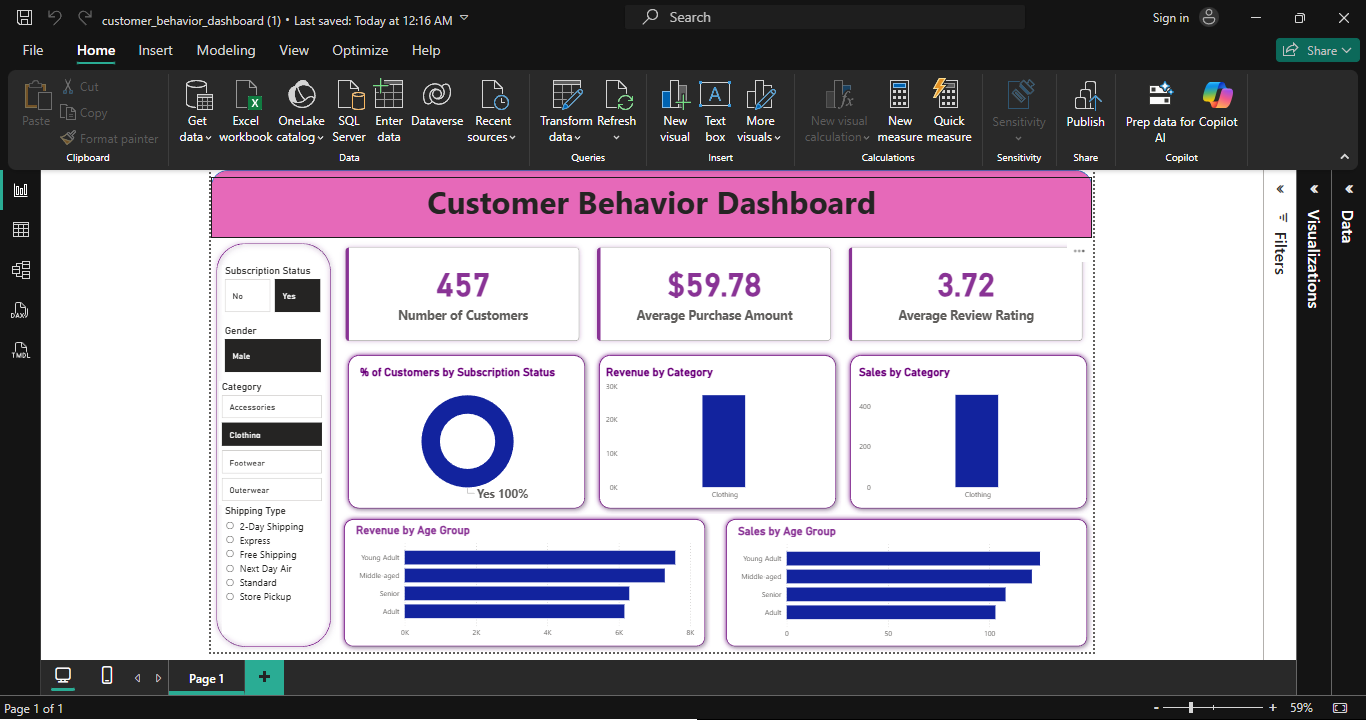

The dashboard page shown, as its layout file describes it:
{"tool":"powerbi","page":{"name":"Page 1","canvas":[1500,820],"ordinal":0},"visuals":[{"type":"cardVisual","fields":{"Data":["public customer.Number of Customers","public customer.Average Purchase Amount","public customer.Average Review Rating"]},"box":[212.9,115.3,1286.5,191.6],"z":2000},{"type":"shape","box":[218.3,585.6,631.7,234.2],"z":2500,"group":"g1"},{"type":"shape","box":[0,0,1499.4,115.3],"z":3000},{"type":"textbox","box":[0,12.4,1499.4,102.9],"z":4000},{"type":"shape","box":[225.4,307,420.5,278.6],"z":5000},{"type":"donutChart","title":"% of Customers by Subscription Status","fields":{"Category":["public customer.subscription_status"],"Y":["CountNonNull(public customer.customer_id)"]},"box":[248.4,331.8,376.2,237.8],"z":6000},{"type":"shape","box":[1078.9,307,420.5,278.6],"z":7000},{"type":"shape","box":[652.1,307,420.5,278.6],"z":8000},{"type":"clusteredColumnChart","title":"Revenue by Category","fields":{"Y":["Sum(public customer.purchase_amount)"],"Category":["public customer.category"]},"box":[667.2,331.8,385.1,237.8],"z":9000},{"type":"clusteredColumnChart","title":"Sales by Category","fields":{"Y":["CountNonNull(public customer.customer_id)"],"Category":["public customer.category"]},"box":[1096.6,331.8,385.1,237.8],"z":10000},{"type":"shape","box":[0,115.3,212.9,704.5],"z":11000},{"type":"advancedSlicerVisual","fields":{"Values":["public customer.subscription_status"]},"box":[19.5,161.5,173.9,85.2],"z":12000},{"type":"advancedSlicerVisual","fields":{"Values":["public customer.gender"]},"box":[19.5,264.4,173.9,85.2],"z":13000},{"type":"advancedSlicerVisual","fields":{"Values":["public customer.category"]},"box":[13.6,359,180.3,211],"z":14000},{"type":"listSlicer","fields":{"Values":["public customer.shipping_type"]},"box":[19.5,569.6,168.6,220],"z":15000},{"type":"shape","box":[867.7,585.6,631.7,234.2],"z":16000},{"type":"clusteredBarChart","title":"Sales by Age Group","fields":{"Y":["CountNonNull(public customer.customer_id)"],"Category":["public customer.age_group"]},"box":[890.8,601.5,585.6,204.1],"z":17000},{"type":"clusteredBarChart","title":"Revenue by Age Group","fields":{"Y":["Sum(public customer.purchase_amount)"],"Category":["public customer.age_group"]},"box":[241.4,601.6,585.6,204.1],"z":17500,"group":"g1"},{"type":"group","id":"g1","title":"Group 1","box":[218.3,585.6,631.7,234.2],"z":17501}]}

Visuals, with their boxes on the page's 1500x820 design canvas (x1, y1, x2, y2). These are canvas units, not pixel positions in the 1366x720 screenshot, which may show the page scaled, cropped or inside an application window:
cardVisual - public customer.Number of Customers x public customer.Average Purchase Amount: <box>213,115,1499,307</box>
shape: <box>218,586,850,820</box>
shape: <box>0,0,1499,115</box>
textbox: <box>0,12,1499,115</box>
shape: <box>225,307,646,586</box>
"% of Customers by Subscription Status" donutChart: <box>248,332,625,570</box>
shape: <box>1079,307,1499,586</box>
shape: <box>652,307,1073,586</box>
"Revenue by Category" clusteredColumnChart: <box>667,332,1052,570</box>
"Sales by Category" clusteredColumnChart: <box>1097,332,1482,570</box>
shape: <box>0,115,213,820</box>
advancedSlicerVisual - public customer.subscription_status: <box>20,162,193,247</box>
advancedSlicerVisual - public customer.gender: <box>20,264,193,350</box>
advancedSlicerVisual - public customer.category: <box>14,359,194,570</box>
listSlicer - public customer.shipping_type: <box>20,570,188,790</box>
shape: <box>868,586,1499,820</box>
"Sales by Age Group" clusteredBarChart: <box>891,602,1476,806</box>
"Revenue by Age Group" clusteredBarChart: <box>241,602,827,806</box>
"Group 1" group: <box>218,586,850,820</box>
